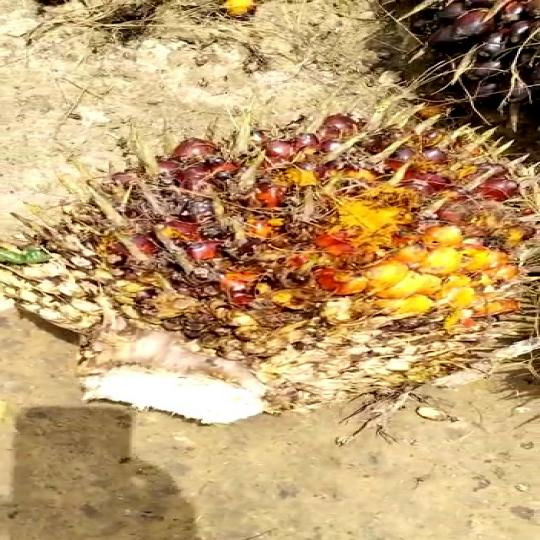masak: (0, 107, 540, 448)
